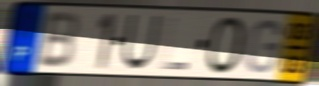1: (96, 12, 118, 71)
B: (35, 10, 80, 71)
G: (244, 18, 284, 76)
L: (160, 16, 190, 72)
O: (205, 15, 248, 76)
U: (120, 13, 164, 72)
